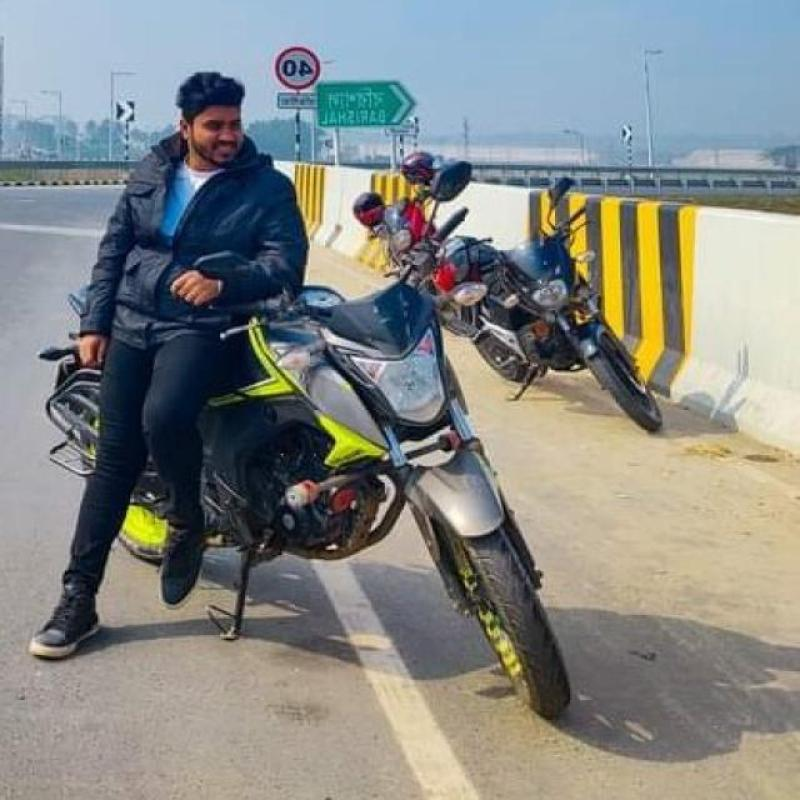nohelmet: (162, 72, 274, 172)
